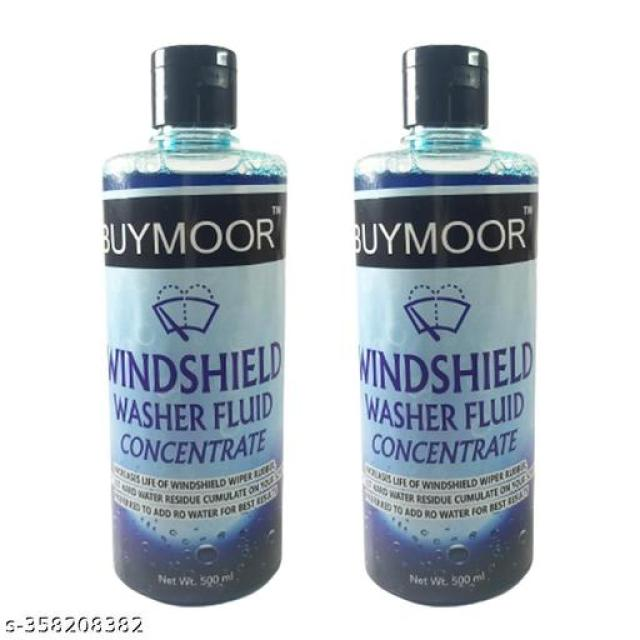winwinshield_washer: (344, 39, 540, 614), (98, 37, 291, 610)
